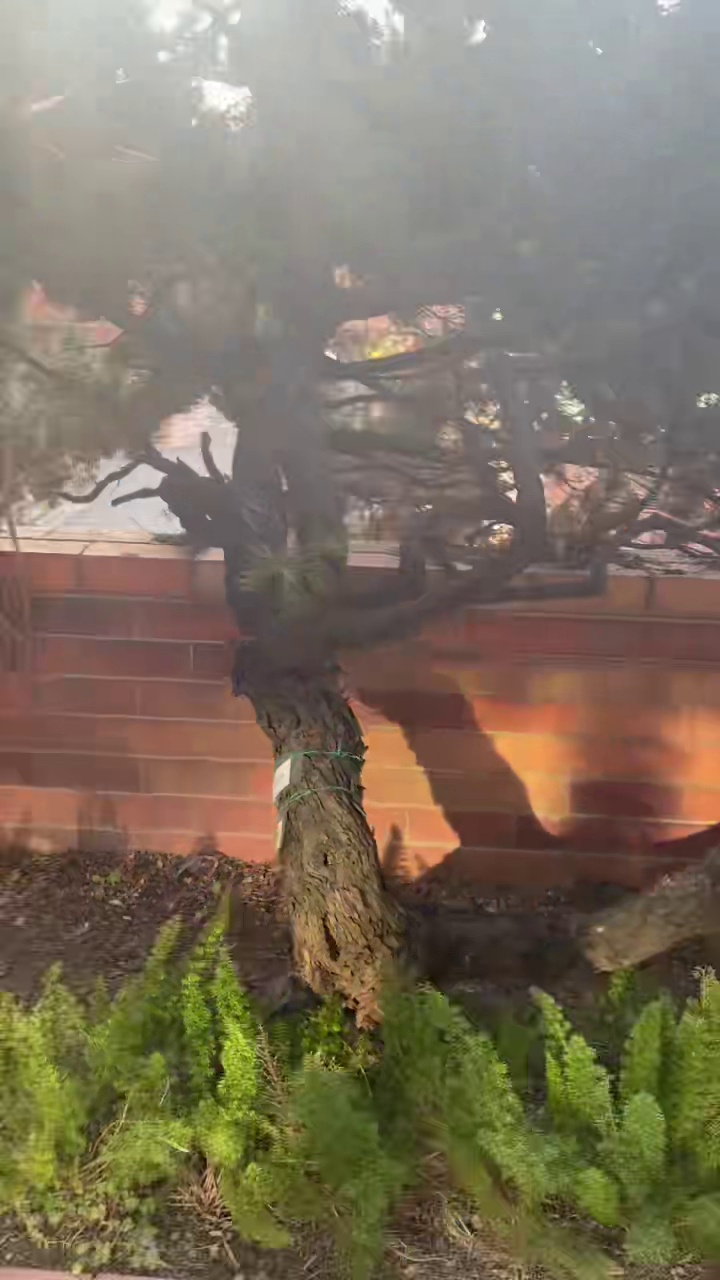Juniperus chinensis: (0, 0, 719, 1019)
